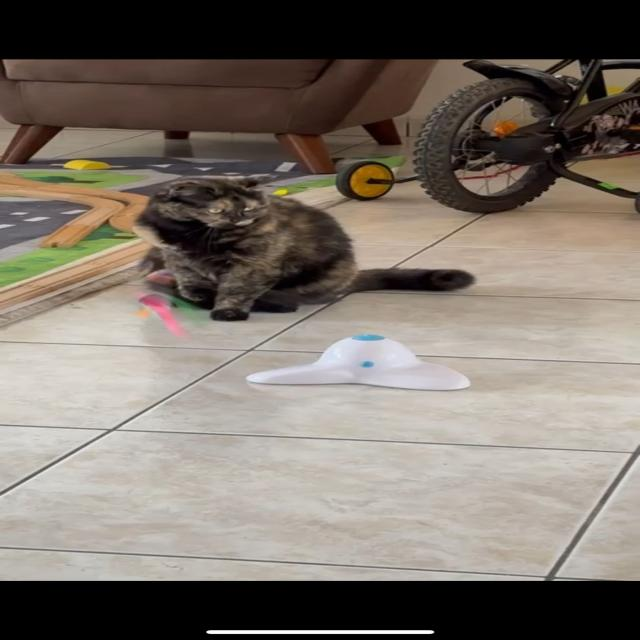authorized: (131, 173, 475, 322)
